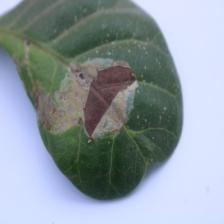leaf miner: (0, 0, 184, 201)
